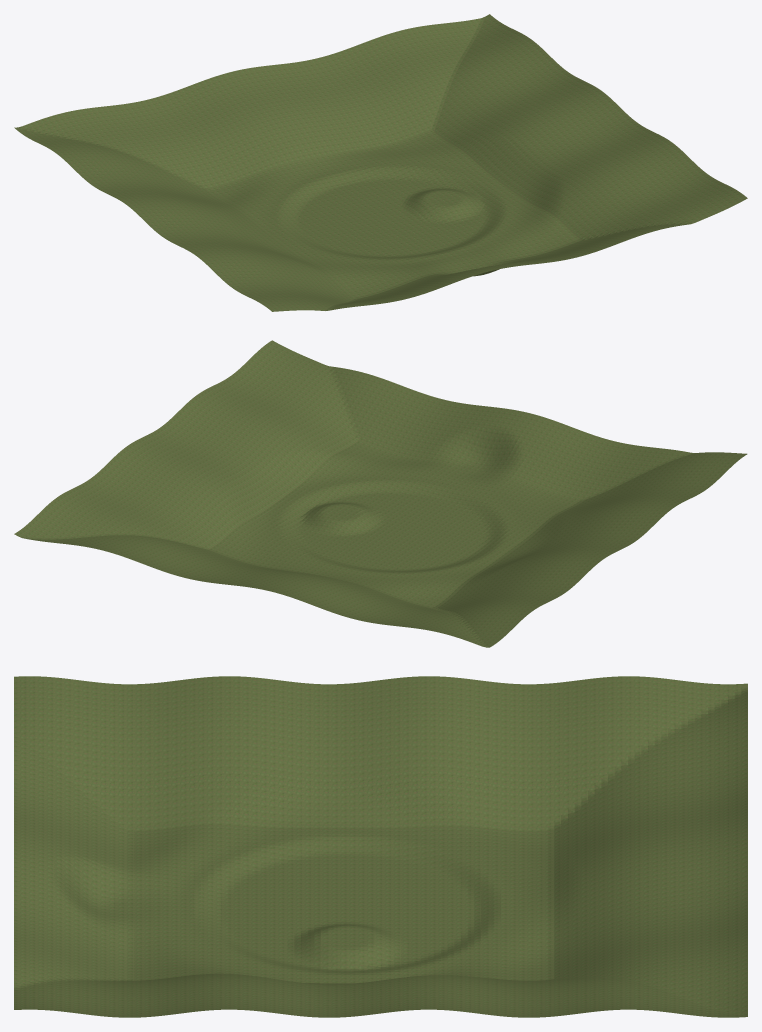
File: campo-lago.glb
3 views of the same model, one above another, from view 1: azimuth 30°, elevation 25°; view 2: azimuth 150°, elevation 25°; view 3: azimuth 270°, elevation 25° (orthographic). The views are drawn at different scales.
Parts seen in each view (by area): view 1: campo-lago-0; view 2: campo-lago-0; view 3: campo-lago-0.
Part boxes in pixels (box(x1,y1,x2,y2)): campo-lago-0: box(14, 14, 747, 311); campo-lago-0: box(14, 340, 747, 647); campo-lago-0: box(14, 676, 747, 1017).
Size of the model in its own units: 351 by 35.24 by 330.
Materials: 1 (1 with a texture image).
